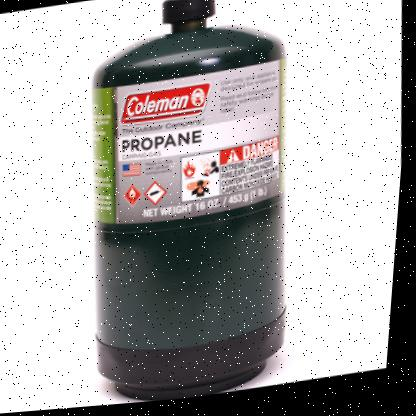gas-tank: (33, 0, 344, 411)
